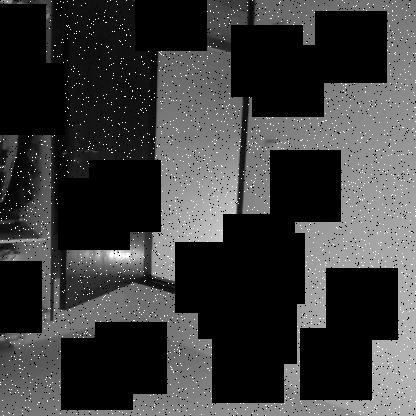Porte: (56, 0, 258, 314)
